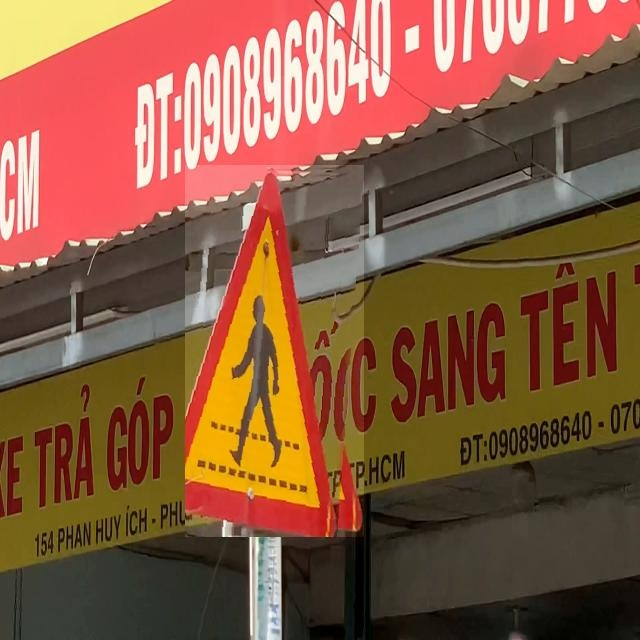bien_nguy_hiem: (185, 165, 364, 537)
